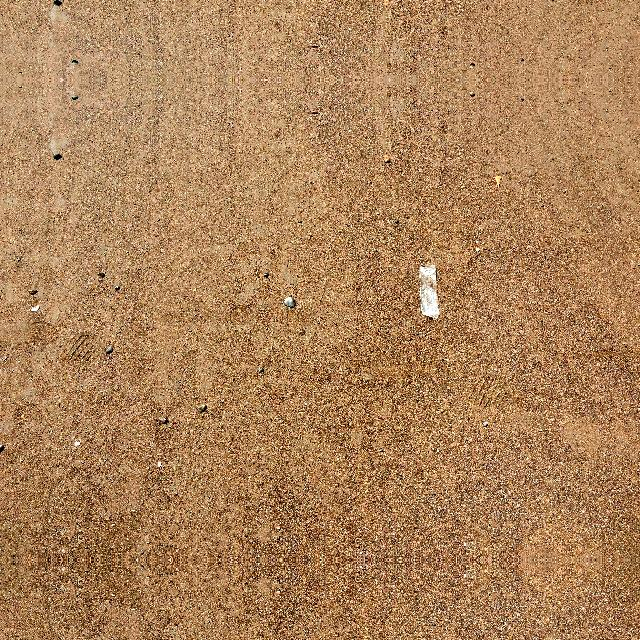Plastic: (413, 256, 445, 326)
